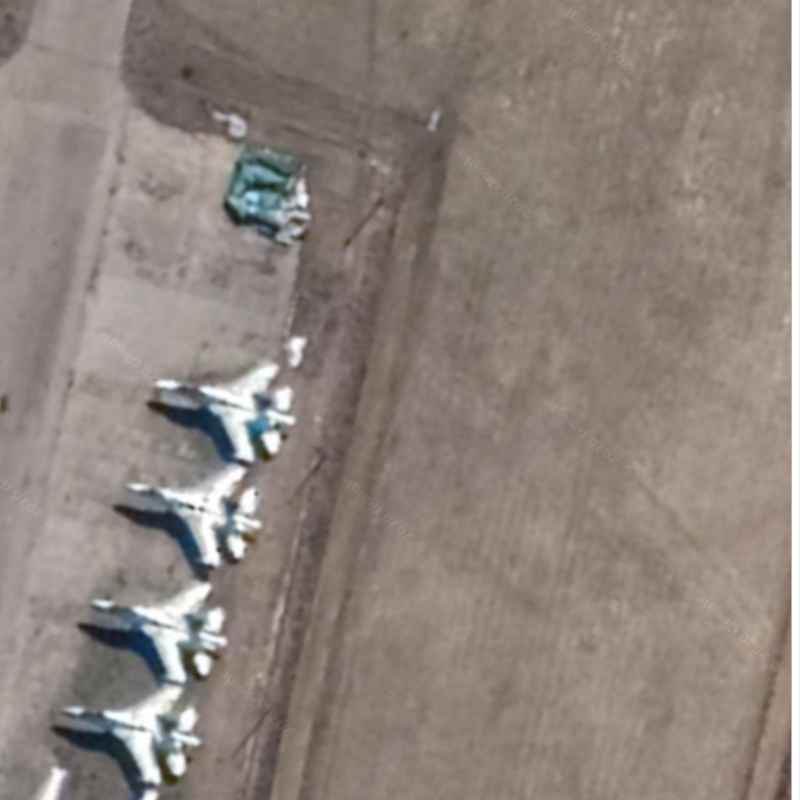A1: (55, 684, 218, 796), (117, 461, 275, 573), (147, 358, 305, 465), (86, 578, 239, 683)
